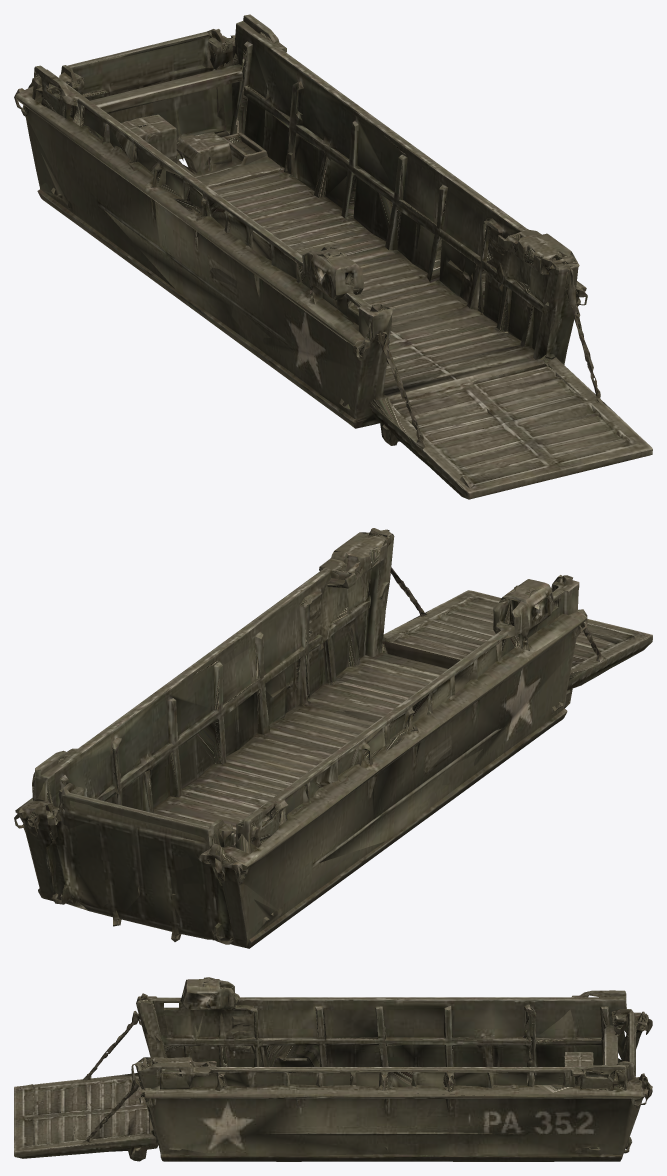
File: lcvp_beached.glb
3 views of the same model, one above another, from view 1: azimuth 30°, elevation 25°; view 2: azimuth 150°, elevation 25°; view 3: azimuth 270°, elevation 25° (orthographic). The views are drawn at different scales.
Parts seen in each view (by area): view 1: mesh_node_lod, mesh_node; view 2: mesh_node_lod, mesh_node; view 3: mesh_node_lod, mesh_node.
Part boxes in pixels (left/top/right/bottom): mesh_node_lod: left=16, top=21, right=632, bottom=498; mesh_node: left=14, top=14, right=652, bottom=499; mesh_node_lod: left=17, top=529, right=652, bottom=947; mesh_node: left=14, top=528, right=652, bottom=948; mesh_node_lod: left=14, top=977, right=652, bottom=1161; mesh_node: left=14, top=977, right=652, bottom=1161.
Size of the model in its own units: 3.28 by 2.2 by 10.71.
Materials: 1 (1 with a texture image).
